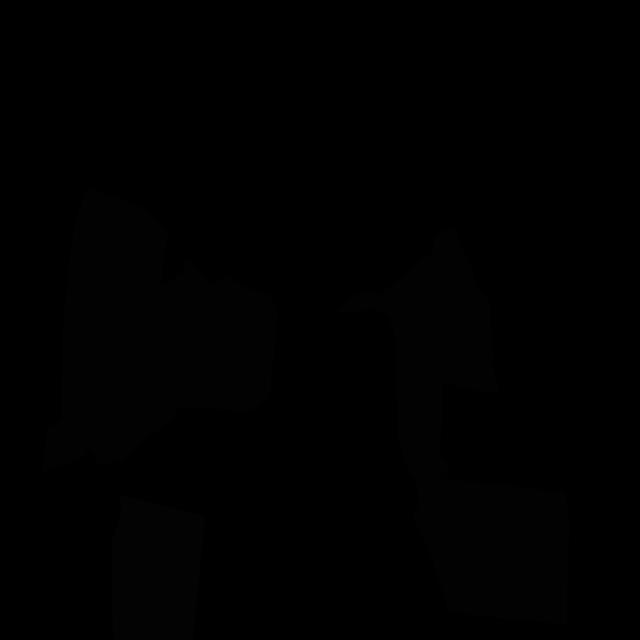cardboard: (42, 188, 278, 472), (337, 228, 500, 477), (412, 478, 570, 625)
metal: (112, 495, 205, 640)
